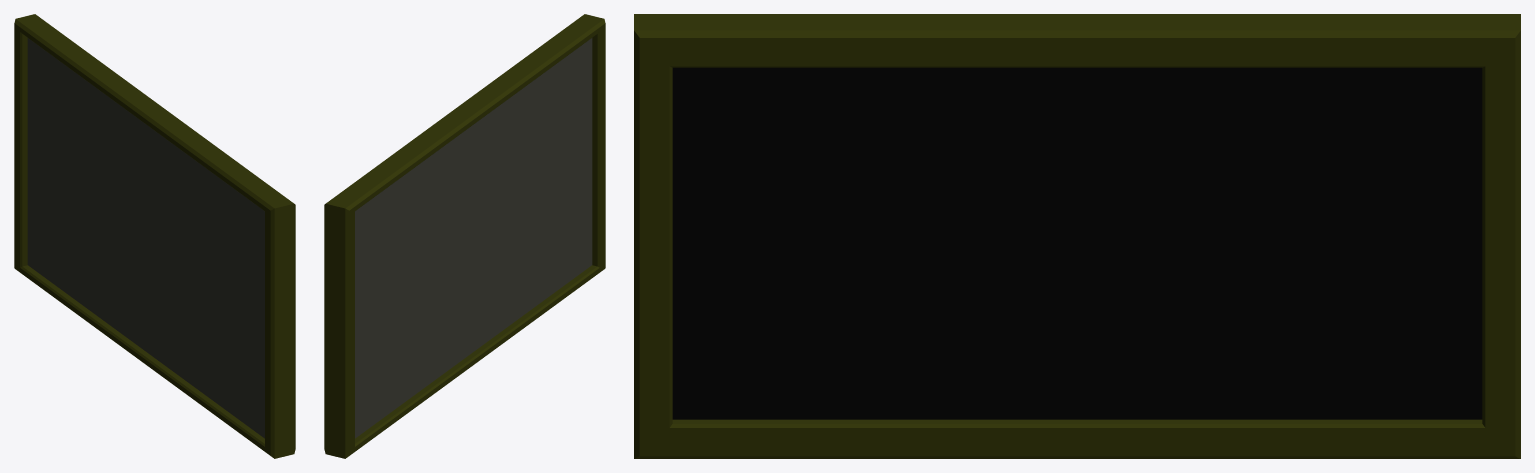
The model's file is SM_Dinette_Sign.fbx.
The picture shows the model from 3 angles, left to right: view 1: azimuth 30°, elevation 25°; view 2: azimuth 150°, elevation 25°; view 3: azimuth 270°, elevation 25°; orthographic projection. The views are drawn at different scales.
Parts seen in each view (by area): view 1: pCube14; view 2: pCube14; view 3: pCube14.
Boxes of the visible parts, bbox=[...] form: pCube14: bbox=[14, 14, 295, 458]; pCube14: bbox=[324, 14, 605, 458]; pCube14: bbox=[634, 14, 1520, 458].
Size of the model in its own units: 3.67 by 35 by 65.63.
